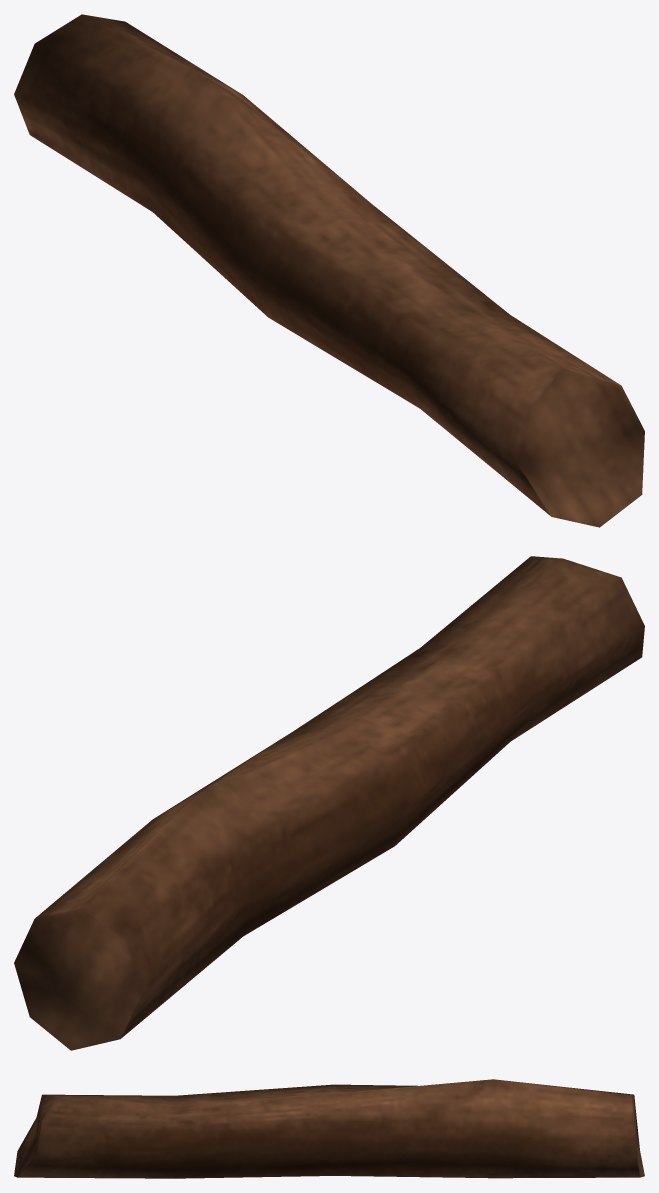
File: Firewood 4.fbx
3 renders of one model, top to bottom at view 1: azimuth 30°, elevation 25°; view 2: azimuth 150°, elevation 25°; view 3: azimuth 270°, elevation 25°, orthographic. The views are drawn at different scales.
Visible parts, largest first — view 1: Firewood 4; view 2: Firewood 4; view 3: Firewood 4.
Boxes of the visible parts, bbox=[...] form: Firewood 4: bbox=[14, 14, 644, 527]; Firewood 4: bbox=[14, 556, 644, 1050]; Firewood 4: bbox=[14, 1079, 644, 1178].
Bounding box in the file's own units: 0.1214 × 0.1175 × 0.6935.
